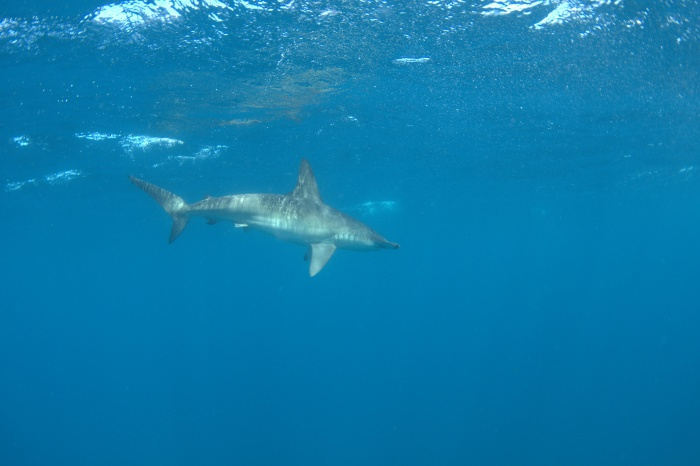Hammer: (126, 150, 416, 288)
